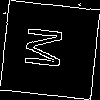M: (24, 24, 72, 72)
